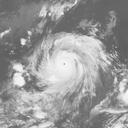cyclone: (29, 31, 102, 91)
